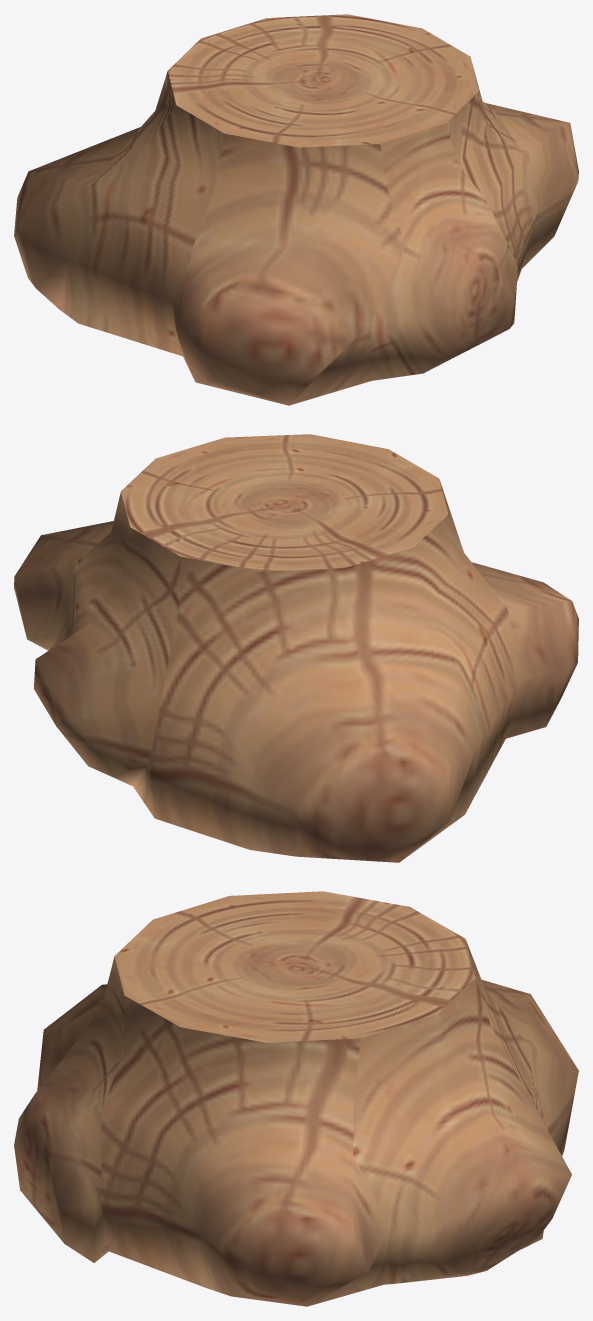
File: p_mesh_hvs_leafy_root.fbx
3 views of the same model, one above another, from view 1: azimuth 30°, elevation 25°; view 2: azimuth 150°, elevation 25°; view 3: azimuth 270°, elevation 25° (orthographic). The views are drawn at different scales.
Parts seen in each view (by area): view 1: chunk00.002; view 2: chunk00.002; view 3: chunk00.002.
Boxes of the visible parts, x1,y1,x2,y2 form: chunk00.002: (14,14,578,405); chunk00.002: (14,434,578,862); chunk00.002: (14,891,578,1306).
Size of the model in its own units: 4.42 by 2.13 by 3.9.
1 material, 1 textured.
